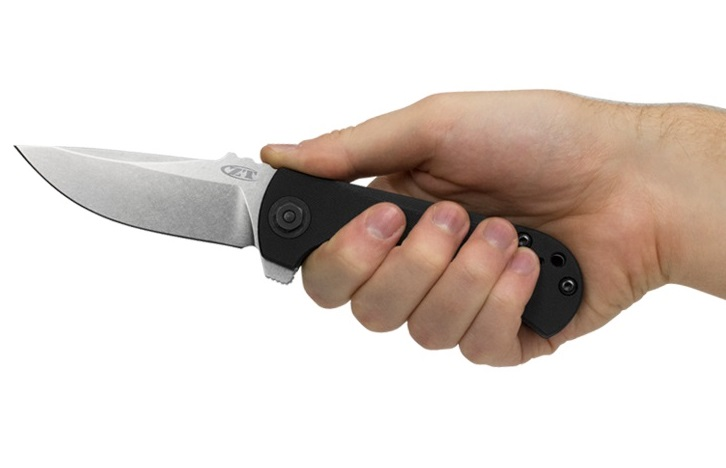knife: (1, 124, 475, 341)
